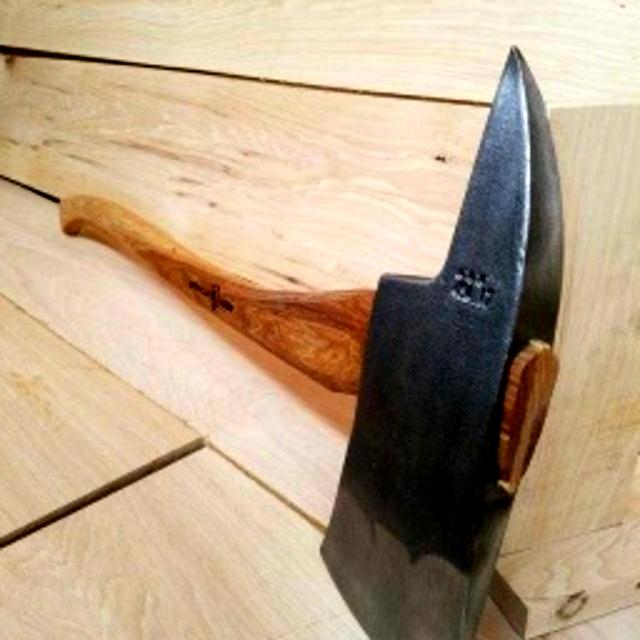ax: (54, 44, 580, 640)
